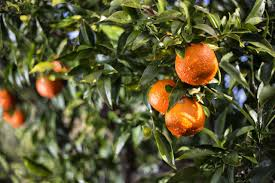orange: (173, 42, 219, 88), (164, 94, 206, 136), (145, 77, 185, 113)
